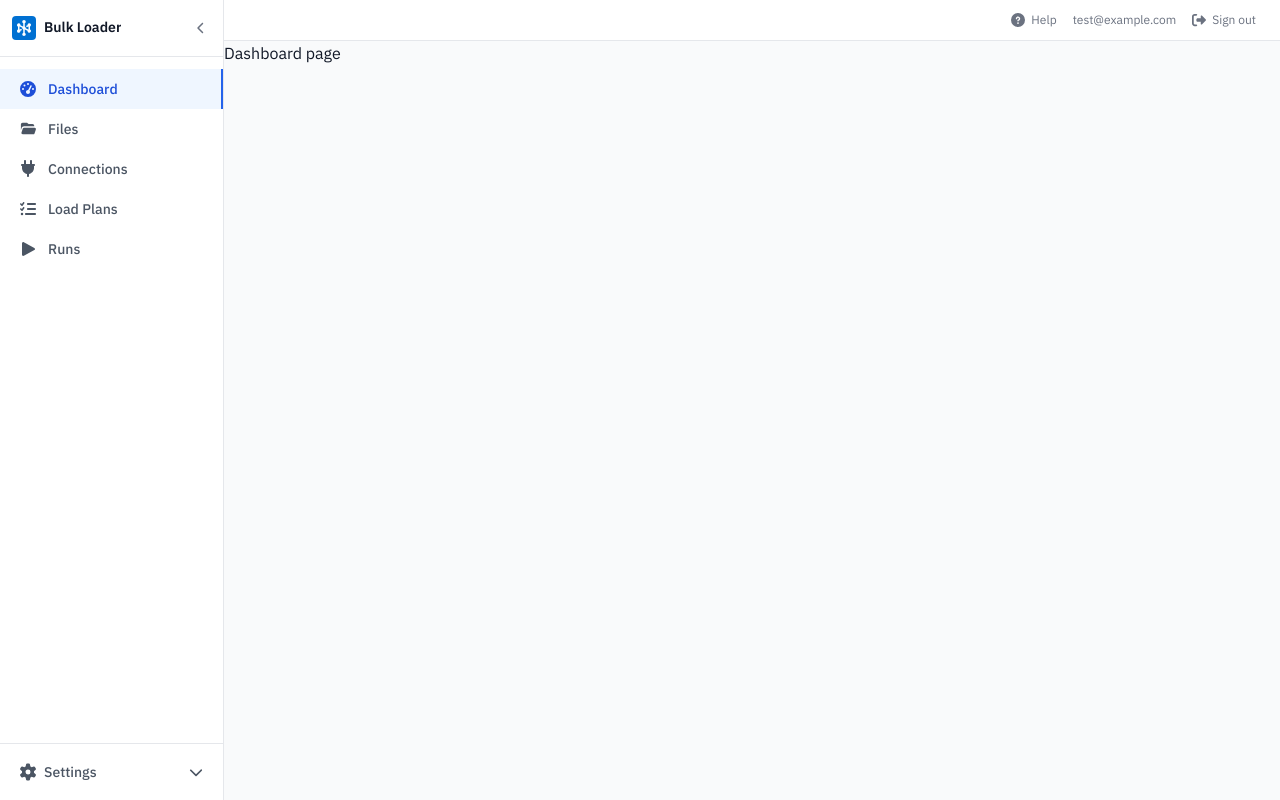
Test case: AppShell › opens Settings menu on click
Click the button "Settings" at x=112, y=772, box [12,756,211,788]
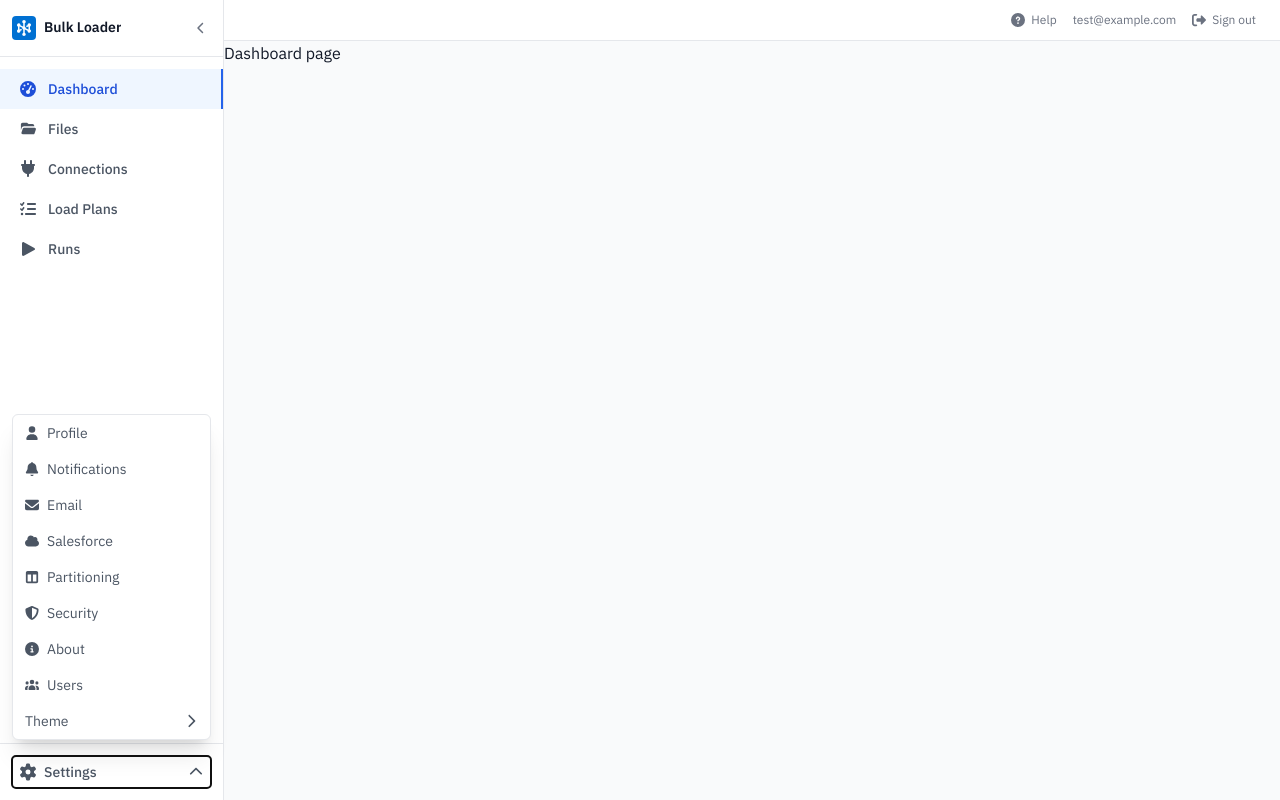
Expected: the button "Theme" is shown, [13,703,210,739]
